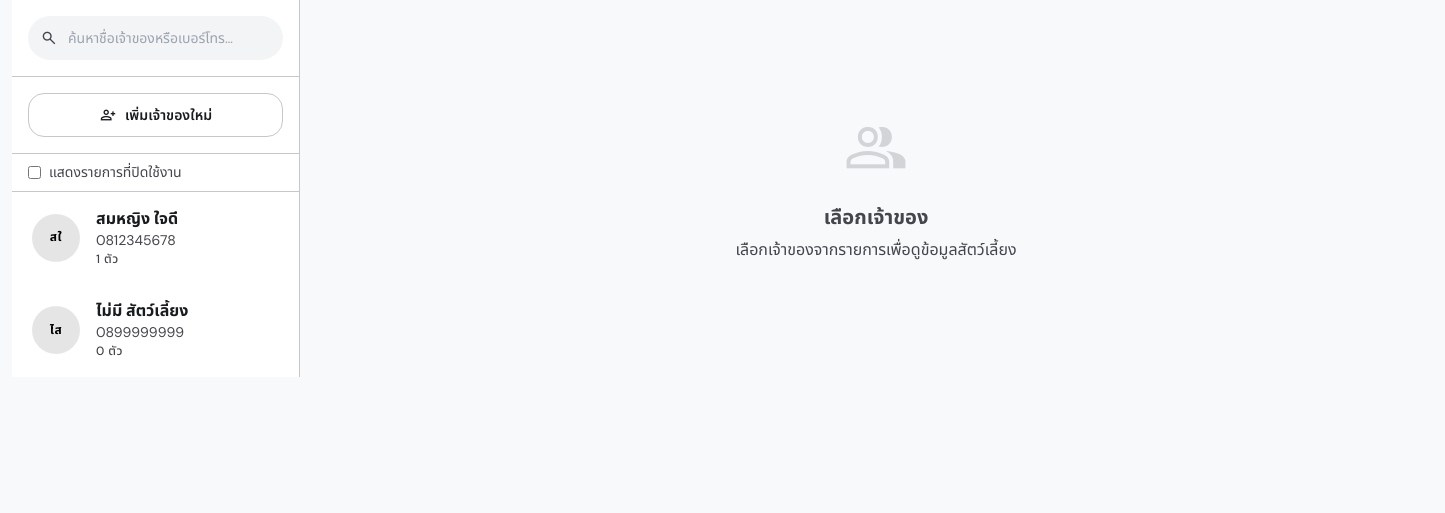
ClinicPets — Thai i18n (I18N-12): owner detail › (a) reactivate failure falls back to the Thai "Failed to reactivate" message
What coordinates should you click on to do the following:
click the text "สมหญิง ใจดี"
I would click on:
 (137, 219)
Its box is [96,208,178,230].
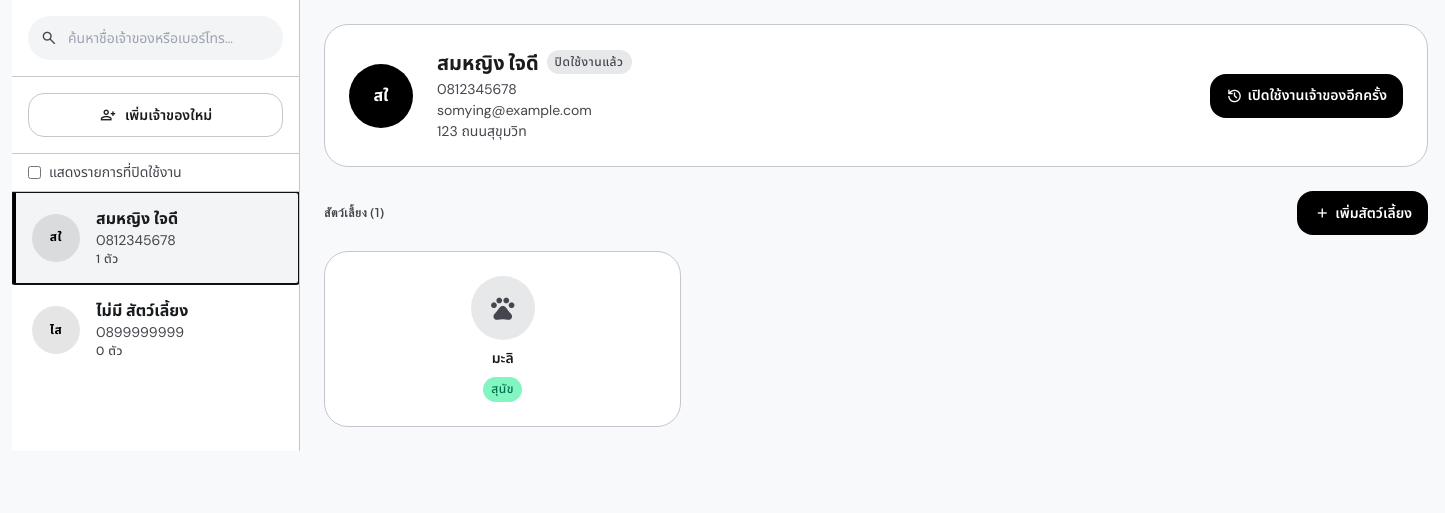
Expected: the text "somying@example.com" is shown, [437,101,592,119]
What coordinates should you click on to do the following:
click the button "เปิดใช้งานเจ้าของอีกครั้ง"
I would click on:
 (1306, 96)
Its box is [1210,74,1403,118].
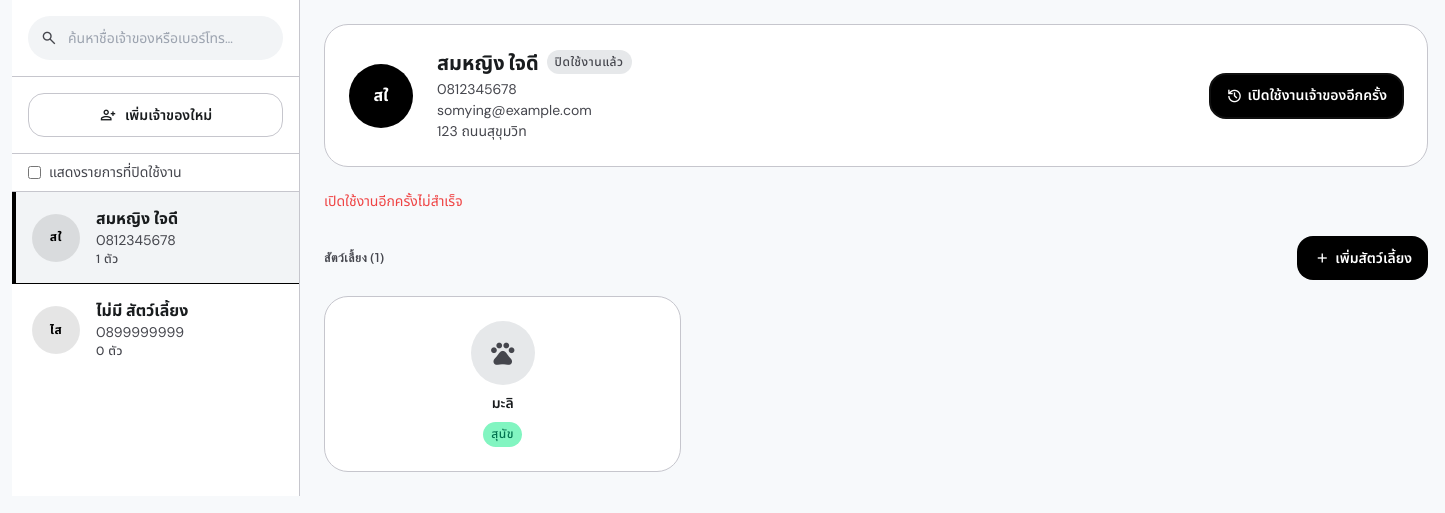
Expected: the text "เปิดใช้งานอีกครั้งไม่สำเร็จ" is shown, [324,192,463,210]
